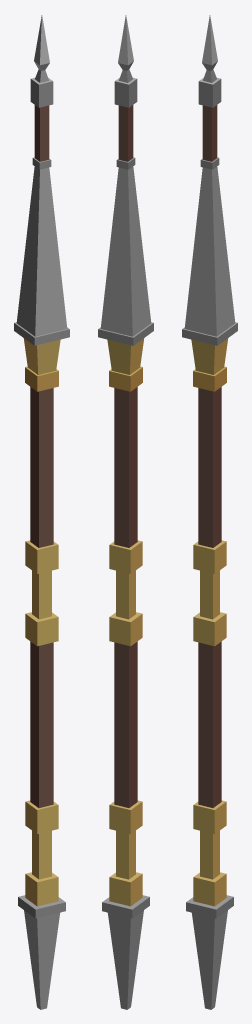
Rendered from SF_Wep_Elven_Lance_01.fbx.
3 views of the same model, side by side, from view 1: azimuth 30°, elevation 25°; view 2: azimuth 150°, elevation 25°; view 3: azimuth 330°, elevation 25° (orthographic).
Visible parts, largest first — view 1: SF_Wep_Elven_Lance_01; view 2: SF_Wep_Elven_Lance_01; view 3: SF_Wep_Elven_Lance_01.
Boxes of the visible parts, x1,y1,x2,y2 form: SF_Wep_Elven_Lance_01: [14, 15, 69, 1009]; SF_Wep_Elven_Lance_01: [98, 15, 153, 1009]; SF_Wep_Elven_Lance_01: [182, 15, 237, 1009].
Bounding box in the file's own units: 0.236 × 6.34 × 0.236.
